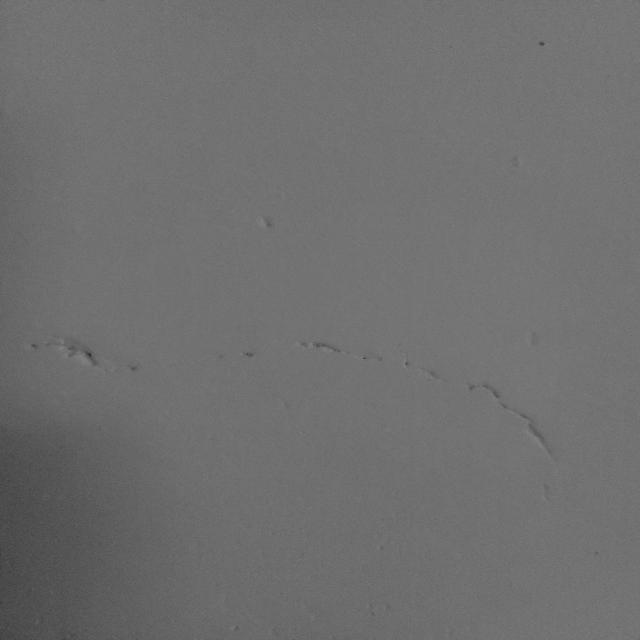rough and patchy surface: (24, 294, 594, 517)
